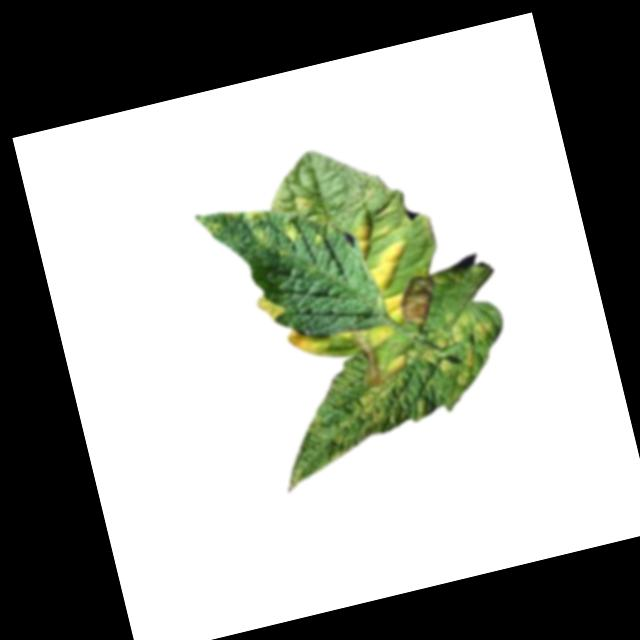Leaf_Mold: (419, 307, 506, 392), (343, 368, 418, 439), (362, 237, 420, 293), (285, 322, 331, 361), (349, 213, 388, 258), (242, 203, 279, 249), (359, 319, 396, 350), (382, 286, 411, 324), (255, 290, 288, 321), (293, 188, 322, 212), (282, 219, 305, 245)
